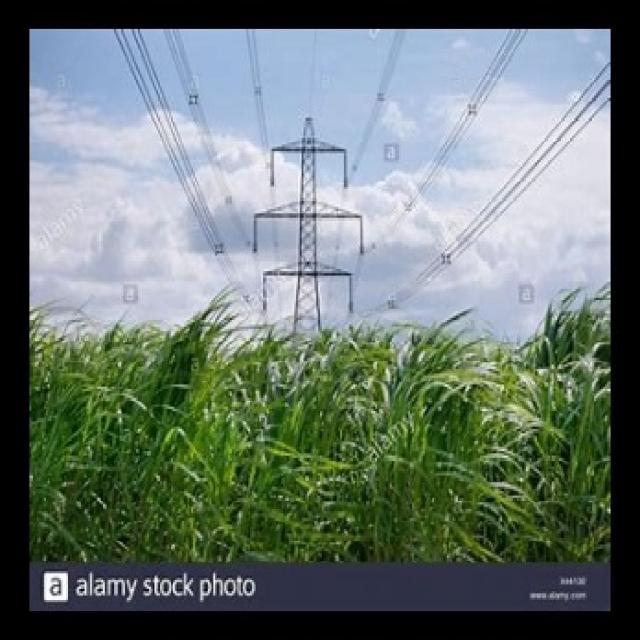utility poles: (254, 105, 358, 563)
